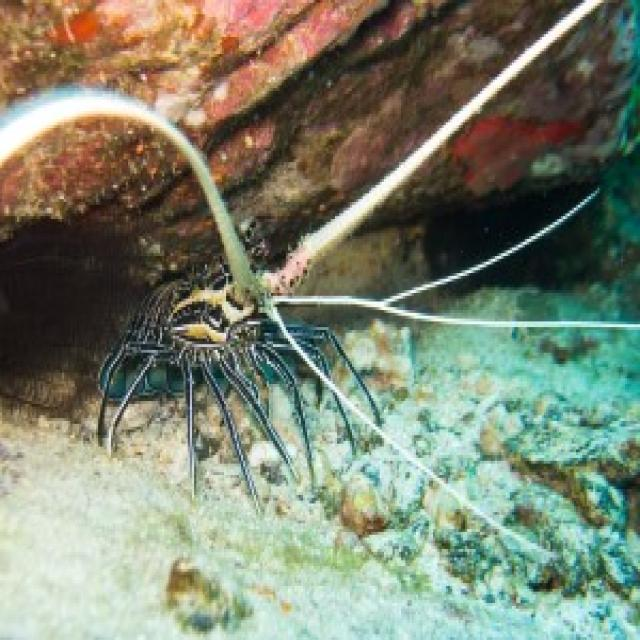lobsters: (8, 34, 640, 583)
